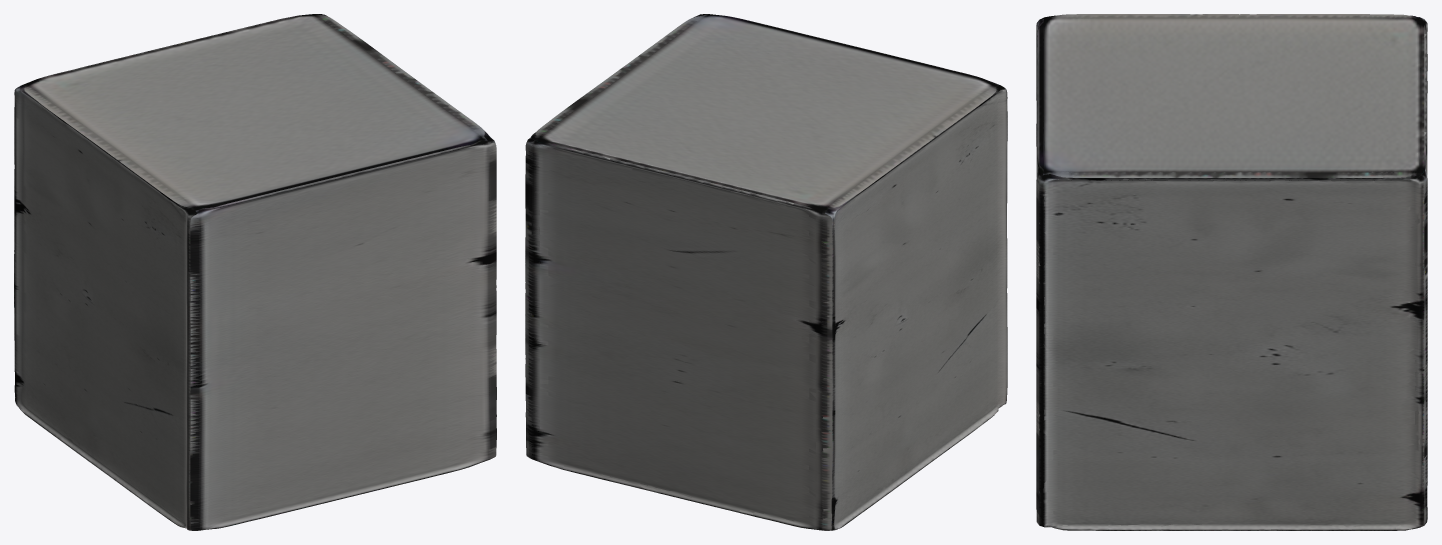
The model's file is wall-concrete-corner.glb.
3 views of the same model, side by side, from view 1: azimuth 30°, elevation 25°; view 2: azimuth 150°, elevation 25°; view 3: azimuth 270°, elevation 25° (orthographic). The views are drawn at different scales.
Visible parts, largest first — view 1: tmpxqnrutg1.ply; view 2: tmpxqnrutg1.ply; view 3: tmpxqnrutg1.ply.
Boxes of the visible parts, x1=… form: tmpxqnrutg1.ply: x1=14, y1=14, x2=496, y2=530; tmpxqnrutg1.ply: x1=525, y1=14, x2=1007, y2=530; tmpxqnrutg1.ply: x1=1036, y1=14, x2=1427, y2=530.
Size of the model in its own units: 1 by 1 by 1.
1 material, 1 textured.
